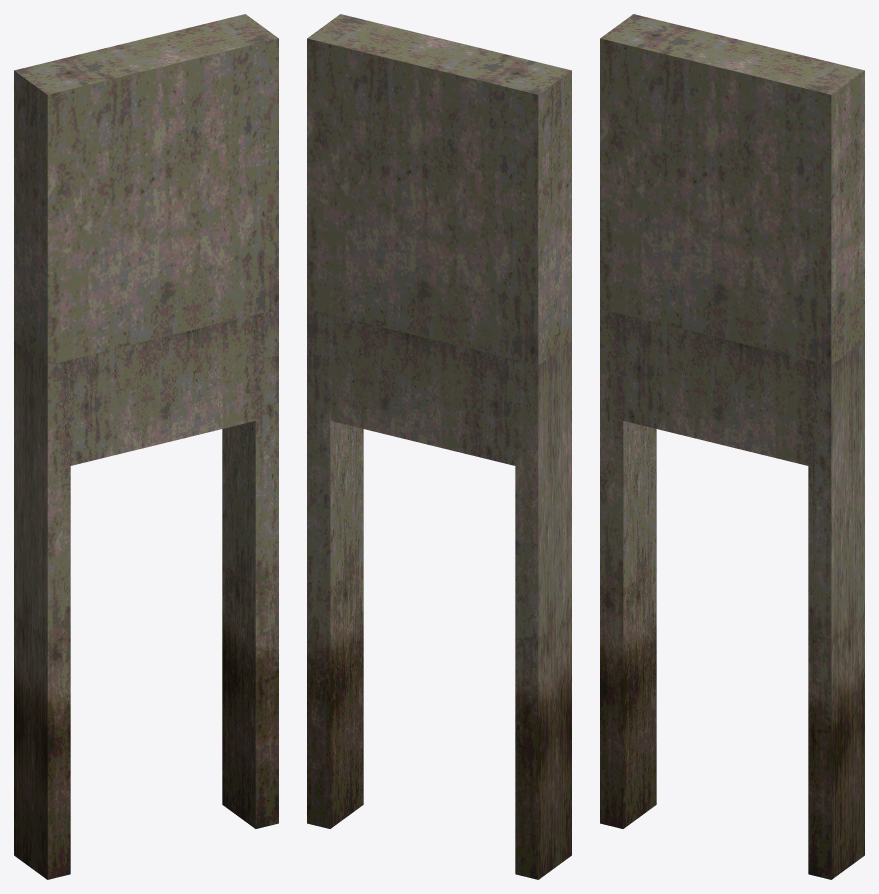
File: ParedePortagrande.fbx
3 renders of one model, left to right at view 1: azimuth 30°, elevation 25°; view 2: azimuth 150°, elevation 25°; view 3: azimuth 330°, elevation 25°, orthographic.
Visible parts, largest first — view 1: Parede para Porta 2x4.001; view 2: Parede para Porta 2x4.001; view 3: Parede para Porta 2x4.001.
Part boxes in pixels (x1,y1,x2,y2): Parede para Porta 2x4.001: (14, 14, 278, 879); Parede para Porta 2x4.001: (307, 14, 571, 879); Parede para Porta 2x4.001: (600, 14, 864, 879).
Size of the model in its own units: 200 by 649 by 50.
1 material, 1 textured.
